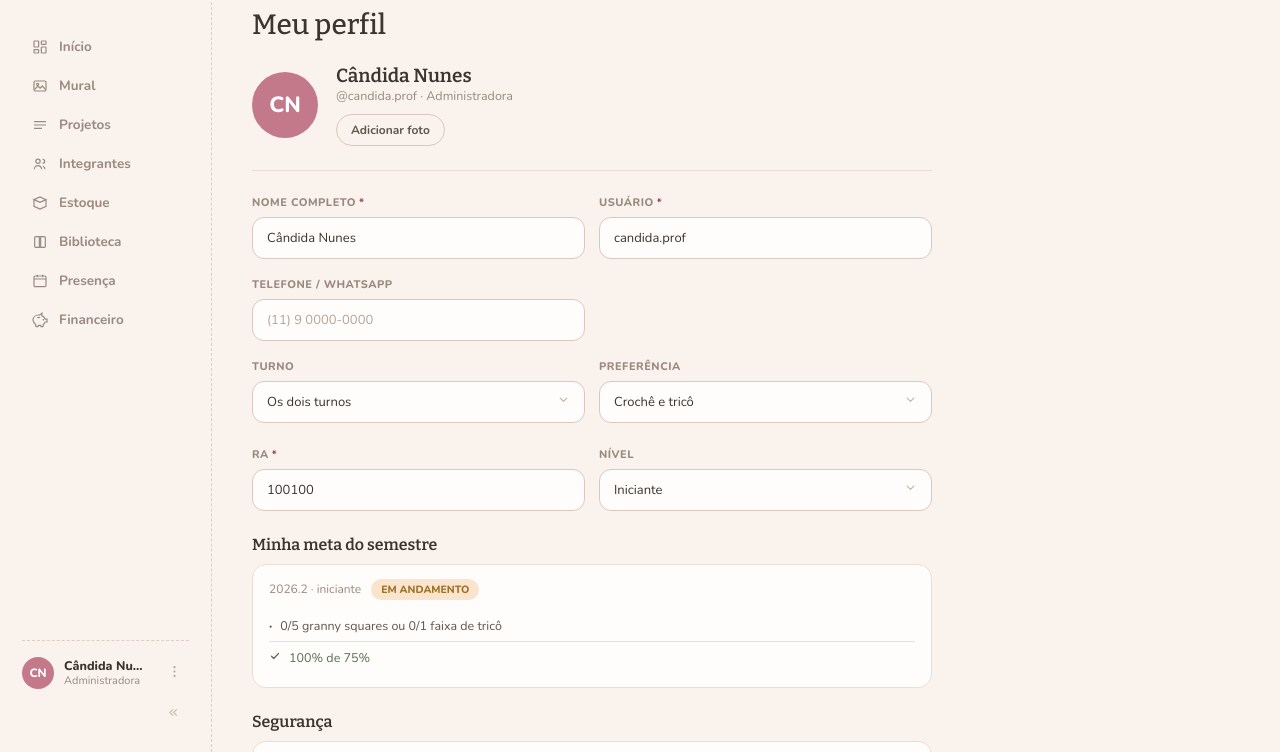
Test: perfil › nome vazio mostra o erro embaixo do campo
Step 1. Clear the field labelled "NOME COMPLETO*" → point(418, 238), box [252,217,585,259]
(page scrolled)
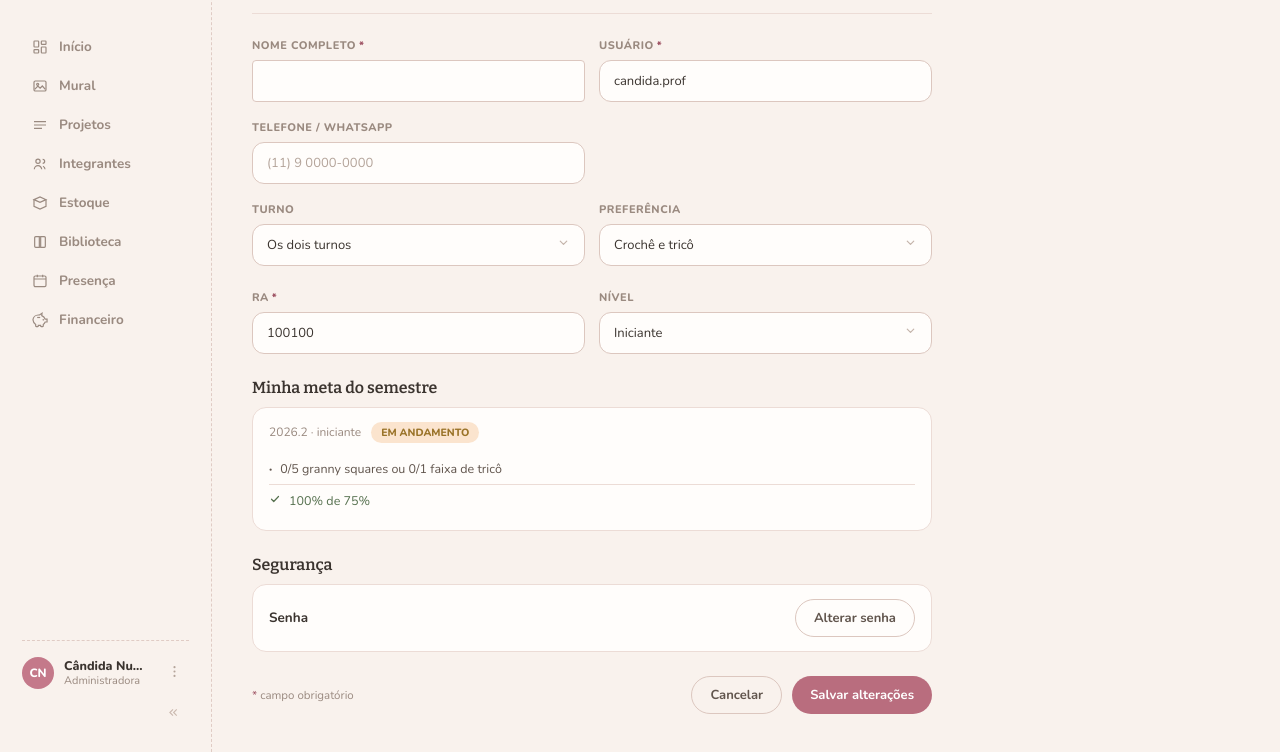
Step 2. Click the button "Salvar alterações" → point(862, 695), box [792,676,932,714]
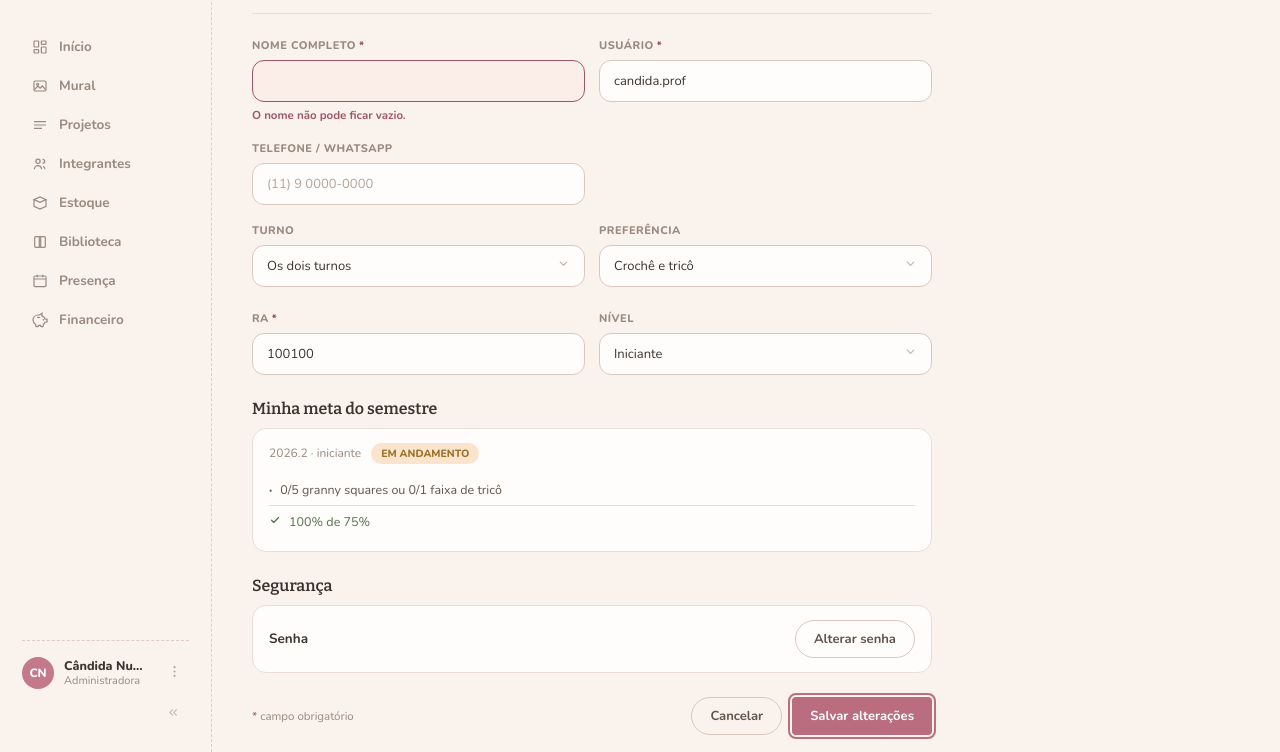
Result: the text "O nome não pode ficar vazio." is shown at [252,107,406,123]
